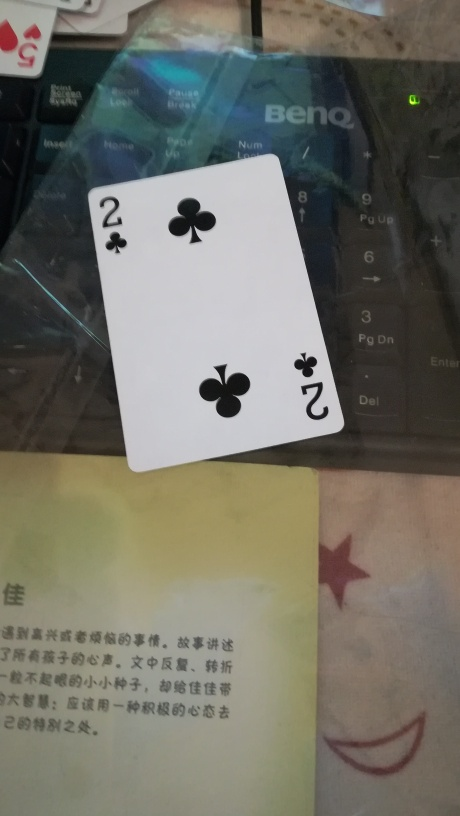mh 2: (85, 152, 347, 472)
